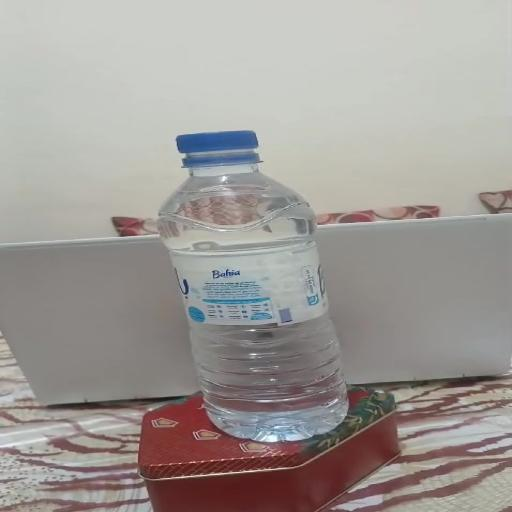bouteille conformite: (162, 127, 376, 440)
bouteille non conformite: (155, 126, 300, 171)
